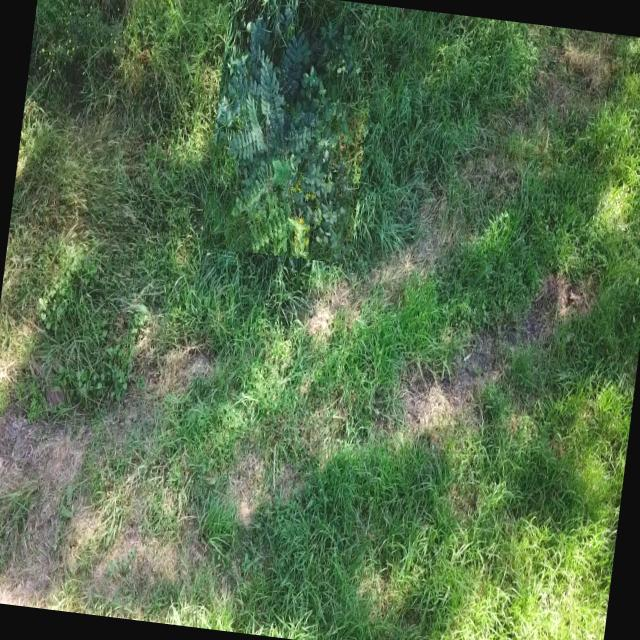Mysore-Thorn-Weed: (200, 0, 381, 264)
